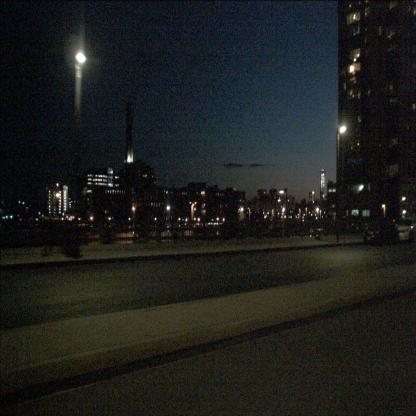vehicle-car: (364, 219, 398, 246), (393, 217, 415, 245)
